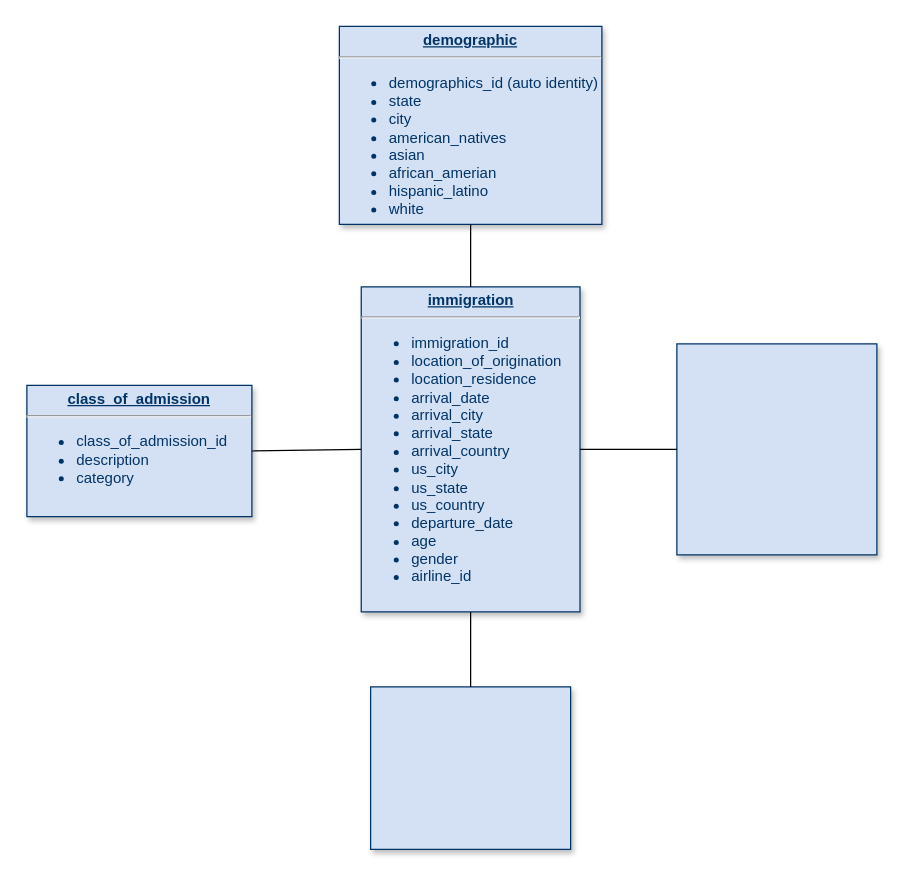
Some shapes in this 906 by 881 pixel diagram are drawn without their labels. The shapes that lost their labels are listed below. From the top down, each one's centre as x and y in pixels, then its label:
At point (777, 451): "time event_date day week month year weekday".
At point (471, 769): "airline airline_id name alias callsign country".
